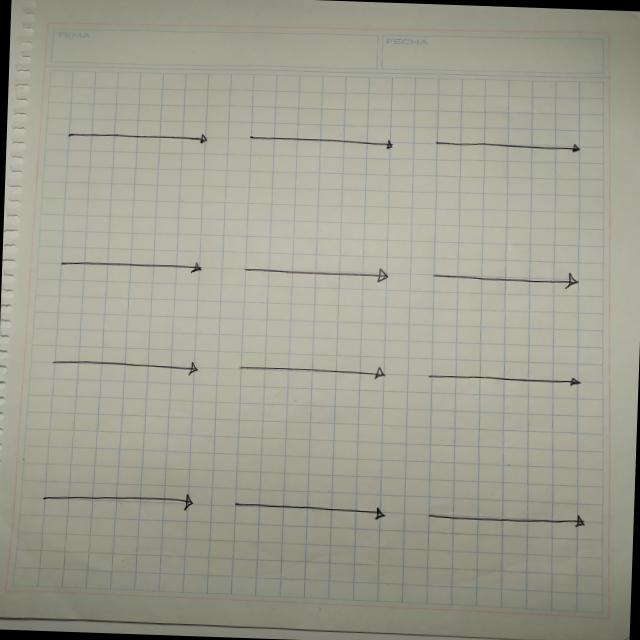arrow_line_right: (222, 484, 401, 528), (418, 498, 592, 538), (225, 352, 402, 388), (423, 129, 596, 165), (35, 481, 207, 516), (420, 266, 591, 300), (41, 348, 203, 383), (245, 127, 404, 161), (233, 255, 392, 289), (420, 362, 586, 394), (56, 116, 214, 149), (48, 249, 210, 281)
